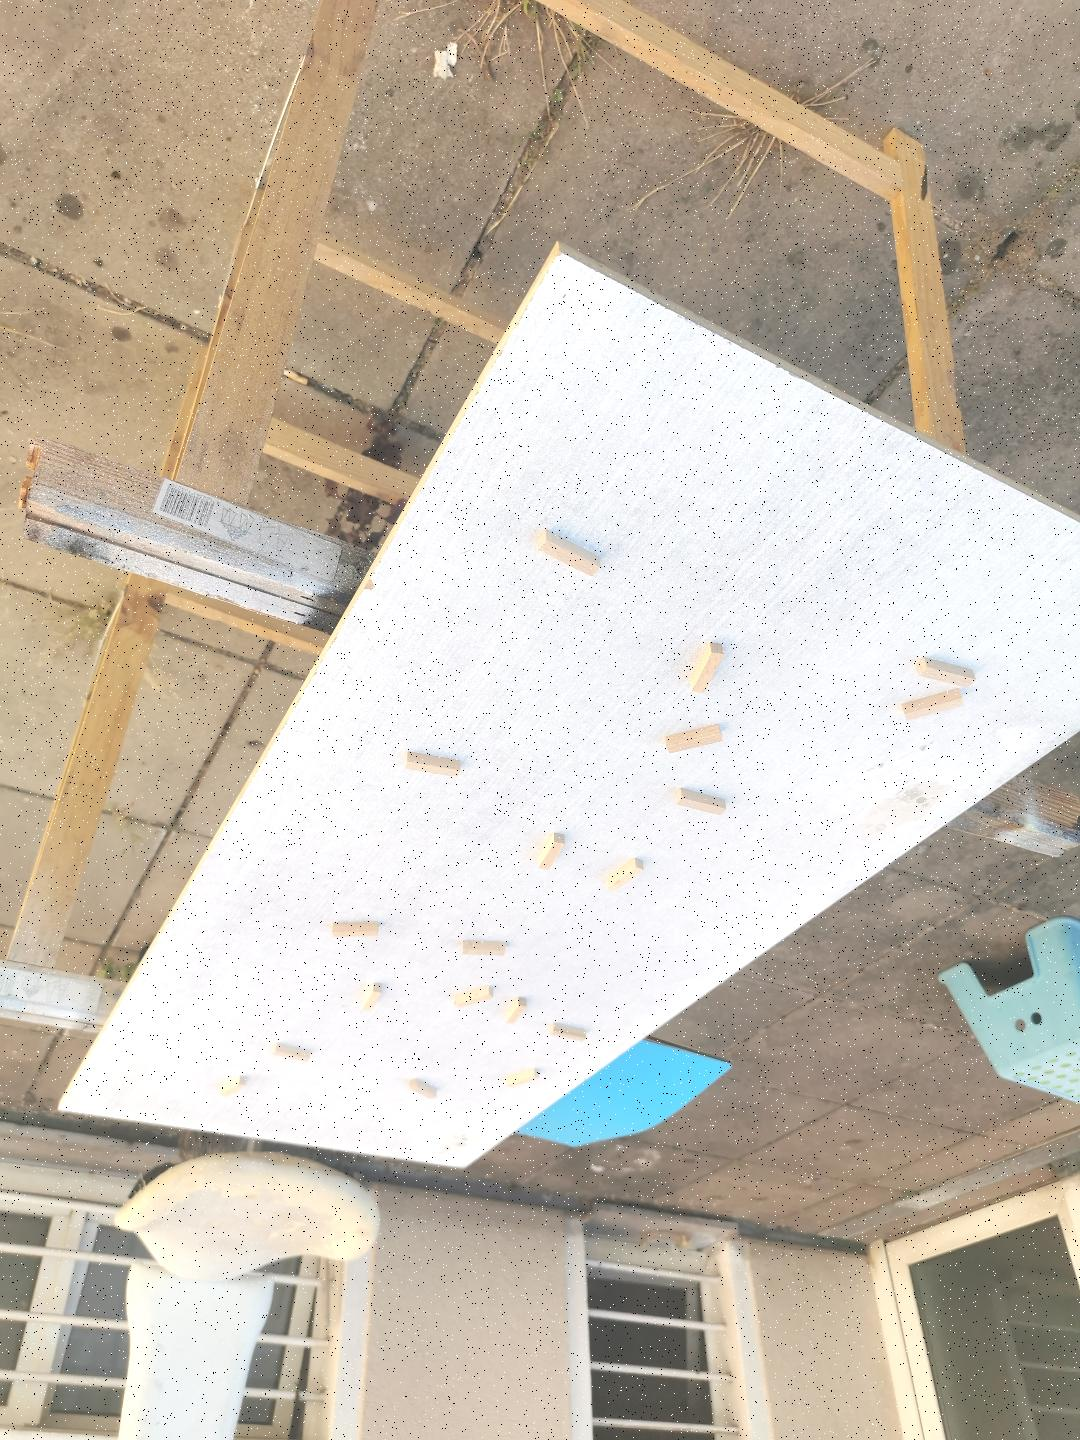jenga: (538, 528, 602, 576), (900, 689, 964, 720), (689, 642, 726, 692), (914, 658, 976, 686), (664, 726, 723, 754), (405, 751, 462, 777), (675, 788, 726, 815), (605, 858, 644, 889), (538, 832, 565, 869), (332, 920, 380, 937), (272, 1043, 312, 1064), (453, 988, 492, 1007), (462, 939, 506, 956), (548, 1024, 588, 1041), (504, 1069, 538, 1089), (360, 982, 382, 1009), (407, 1079, 436, 1100), (504, 999, 526, 1024), (219, 1077, 245, 1096)
